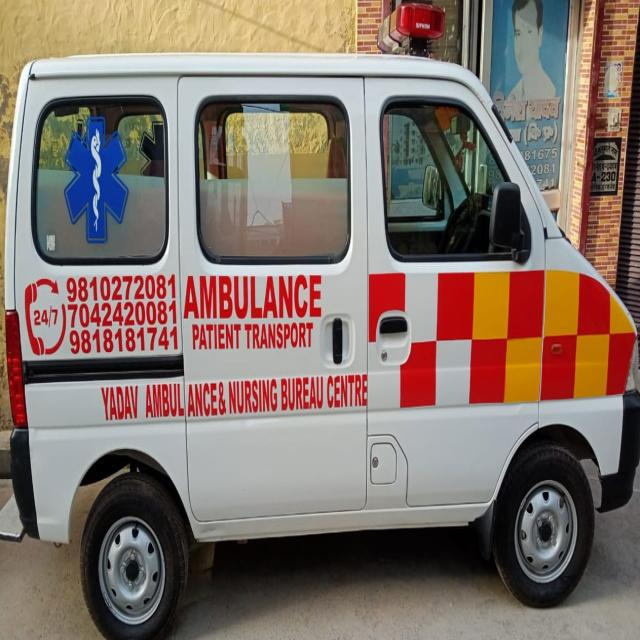ambulance: (6, 30, 640, 622)
